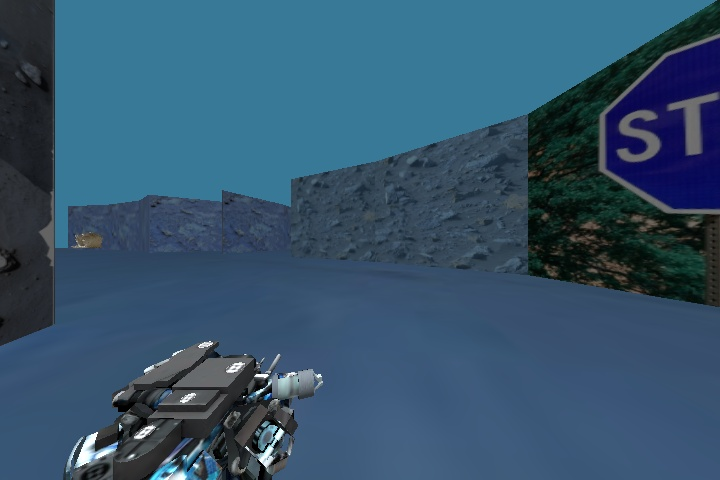formation: (62, 226, 107, 248)
stop_sign: (587, 32, 720, 222)
